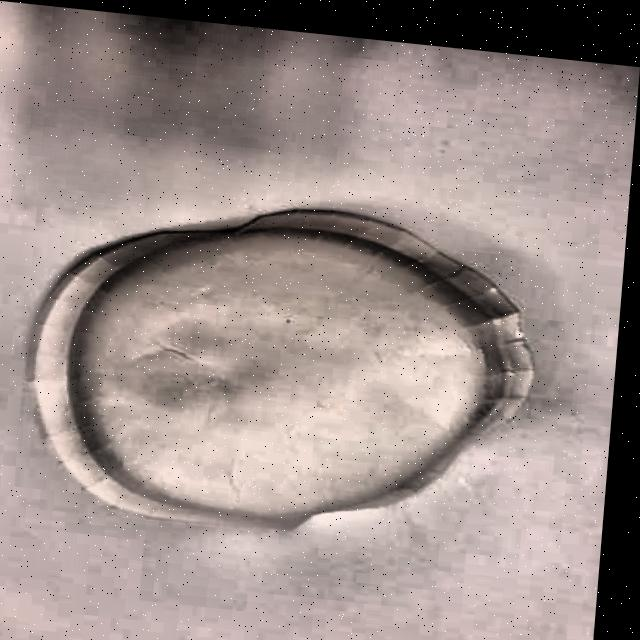paper: (19, 179, 550, 557)
